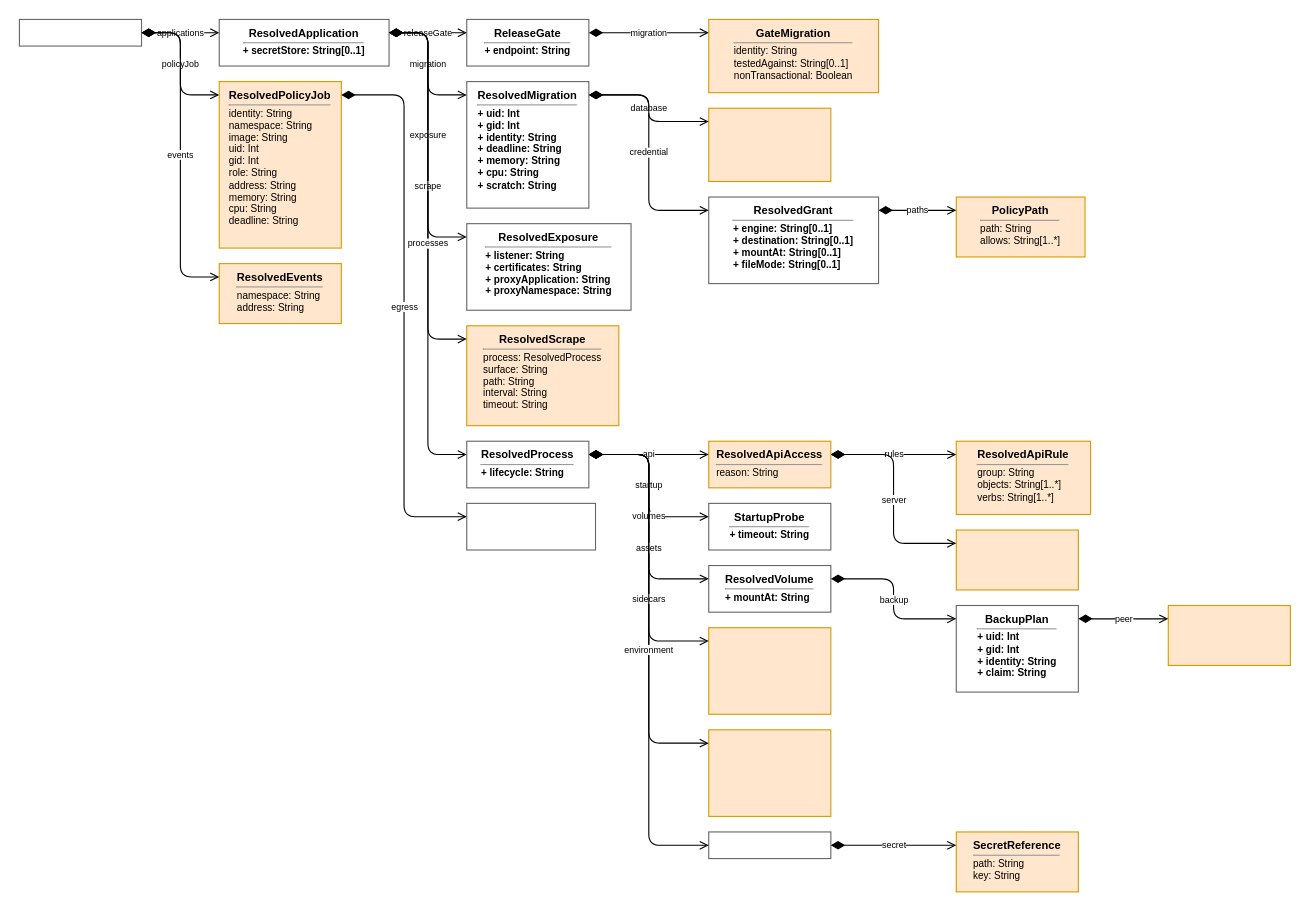
Image size: 1310x911. Some labels were removed from this diagram. The centre of each missing label's shape, as x and y in pixels:
"AdmittedRange cidr: String port: Int" belongs at [1016,559].
"BackupPeer host: String port: Int" belongs at [1228,634].
"EnvEntry" belongs at [769,845].
"MigratedDatabase host: String port: Int name: String" belongs at [769,144].
"PolicyPeer + rule: String[0..1]" belongs at [531,526].
"ResolvedAsset name: String from: String mountAt: String content: String" belongs at [769,670].
"ResolvedDeployment" belongs at [80,32].
"ResolvedSidecar name: String image: String memory: String cpu: String" belongs at [769,772].
